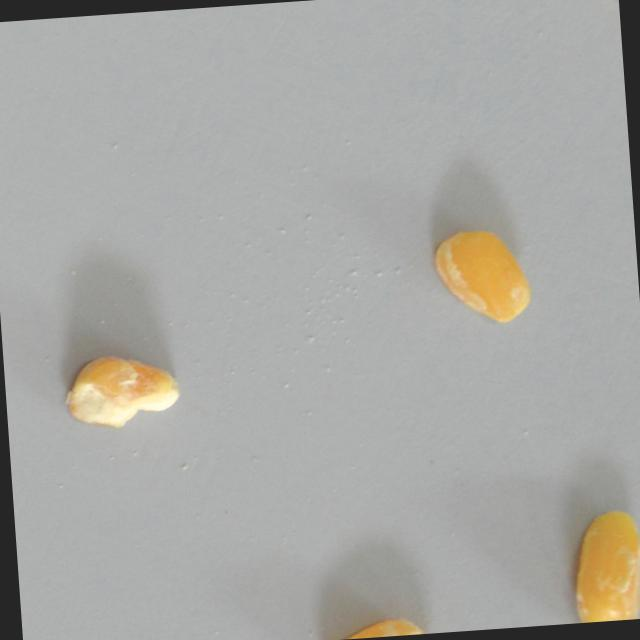pelicula: (430, 224, 532, 328), (62, 351, 181, 430), (569, 506, 640, 623), (319, 614, 440, 640)
